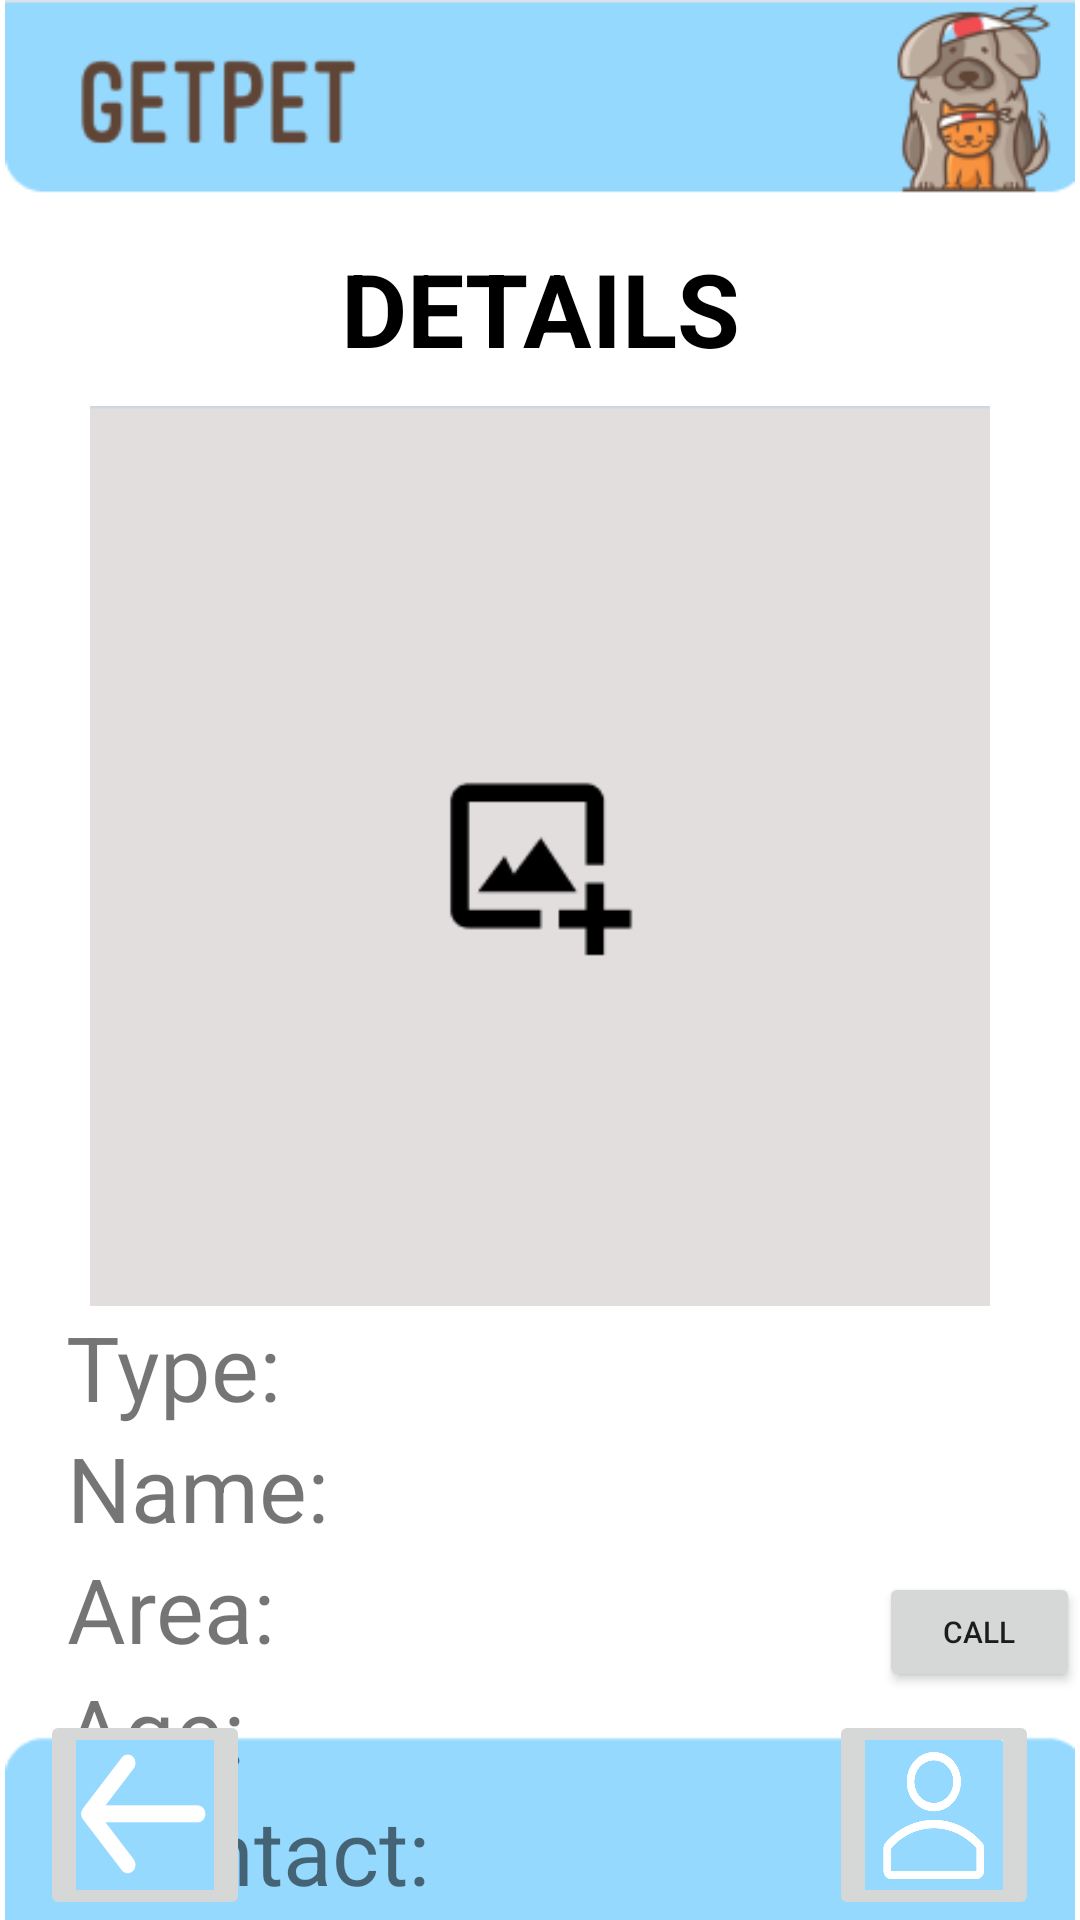

Icon click points for this 1080x1920 phone screenshot, format [x,y]:
back: [145,1815]
profil: [934,1815]
